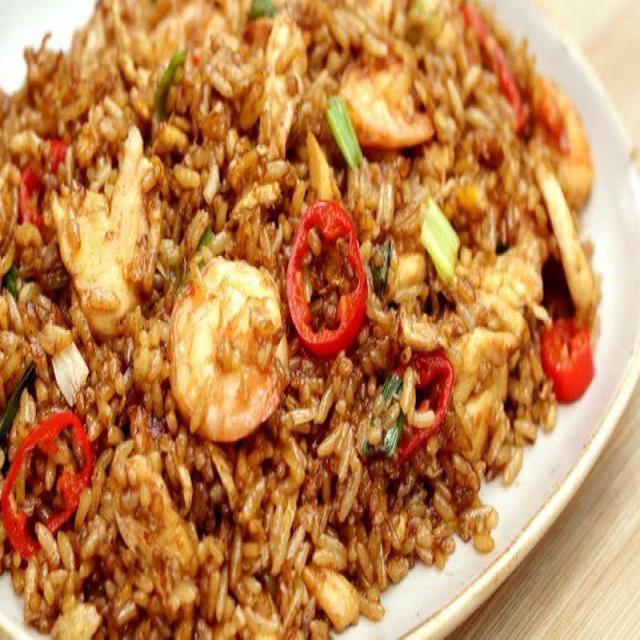Nasi Goreng: (1, 0, 600, 636)
